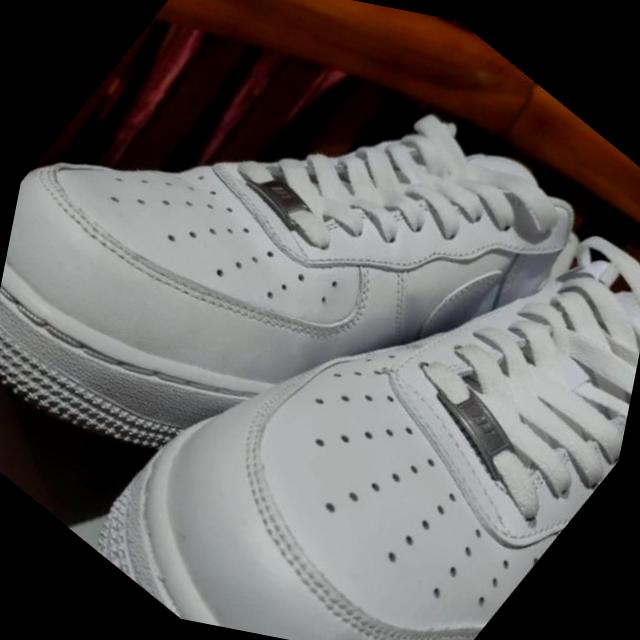nike_original_airforce: (0, 0, 623, 640), (68, 61, 640, 640)
